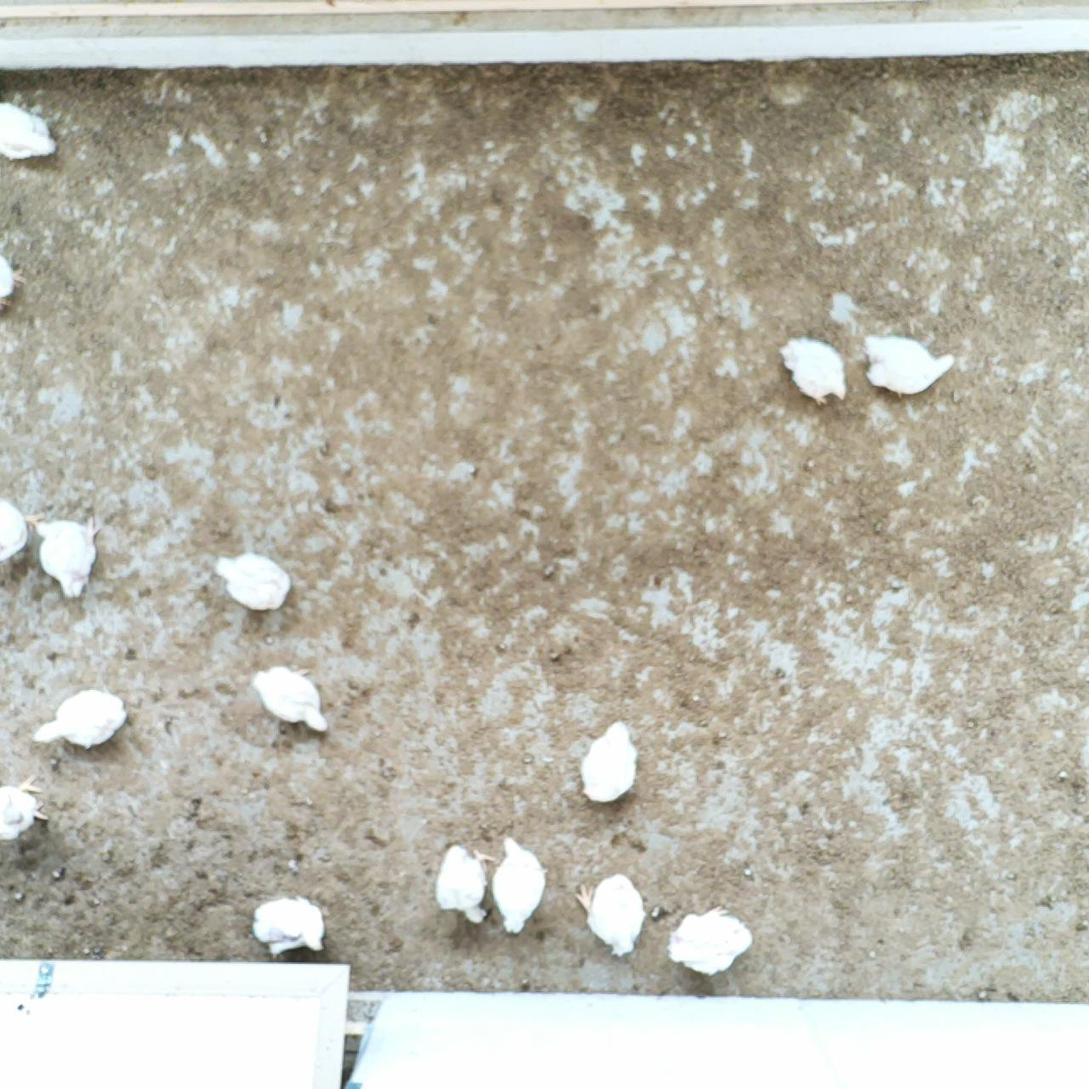chicken: (28, 510, 111, 605), (858, 327, 958, 404), (31, 683, 132, 758), (663, 902, 756, 982), (573, 867, 649, 962), (573, 716, 648, 811), (488, 833, 554, 939), (430, 836, 500, 932), (247, 660, 333, 738), (775, 332, 852, 415), (247, 890, 330, 963), (209, 548, 296, 617), (0, 96, 62, 169), (0, 772, 53, 847), (0, 492, 48, 572), (0, 252, 31, 317)
